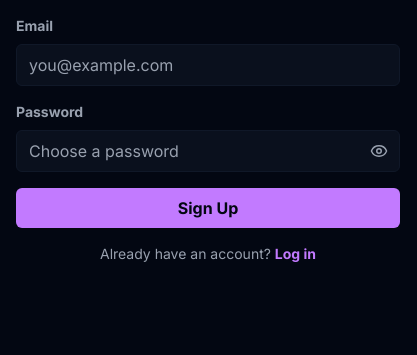
Test: SignupForm › shows an error message and does not redirect when the email is already in use
Type "new@example.com" into the field labelled "Email". click: (208, 65)
box: [16, 44, 400, 86]
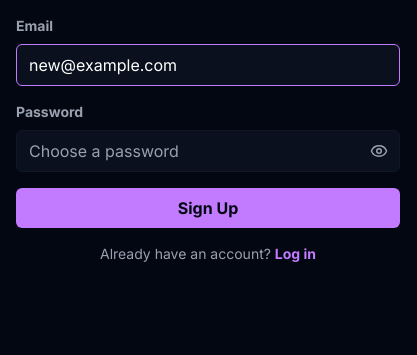
Type "hunter2" into the password field labelled "Password". click: (208, 151)
box: [16, 130, 400, 172]
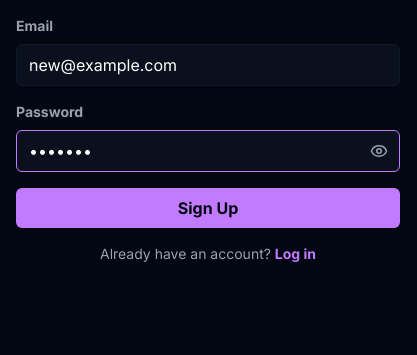
Click the button "Sign Up". click: (208, 208)
box: [16, 188, 400, 228]
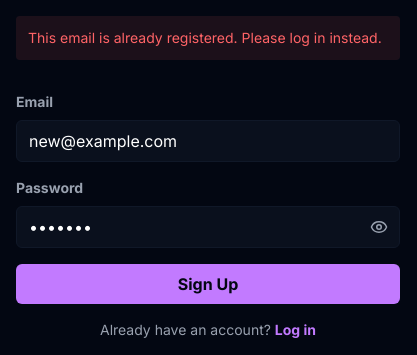
Result: the text "This email is already registered. Please log in instead." is shown at [16, 16, 400, 60]
